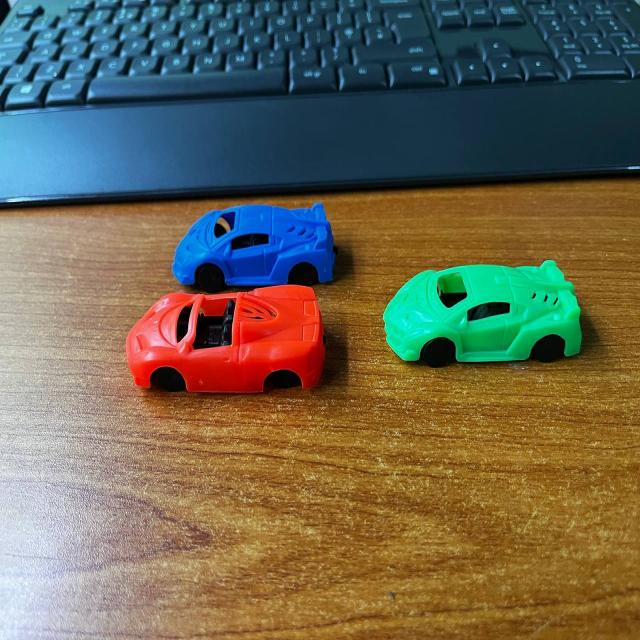car: (372, 252, 592, 377), (128, 288, 333, 421), (166, 199, 340, 286)
